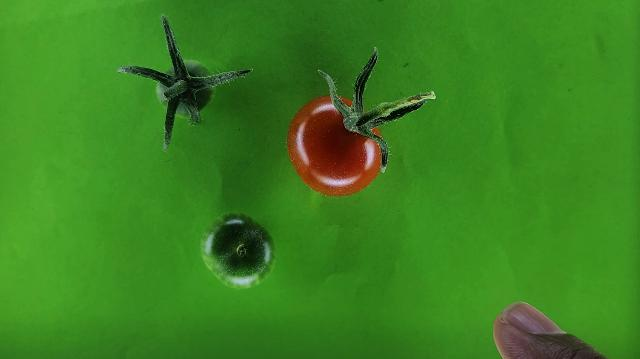Fruit Maturation: (200, 213, 276, 290), (156, 59, 214, 114)
Fully Grown: (284, 91, 388, 197)
